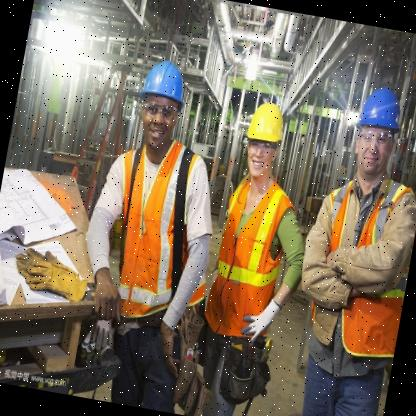capacete: (352, 80, 408, 142), (136, 54, 192, 115), (241, 98, 289, 148)
oculos: (351, 125, 399, 153), (138, 98, 183, 121), (243, 138, 280, 160)
